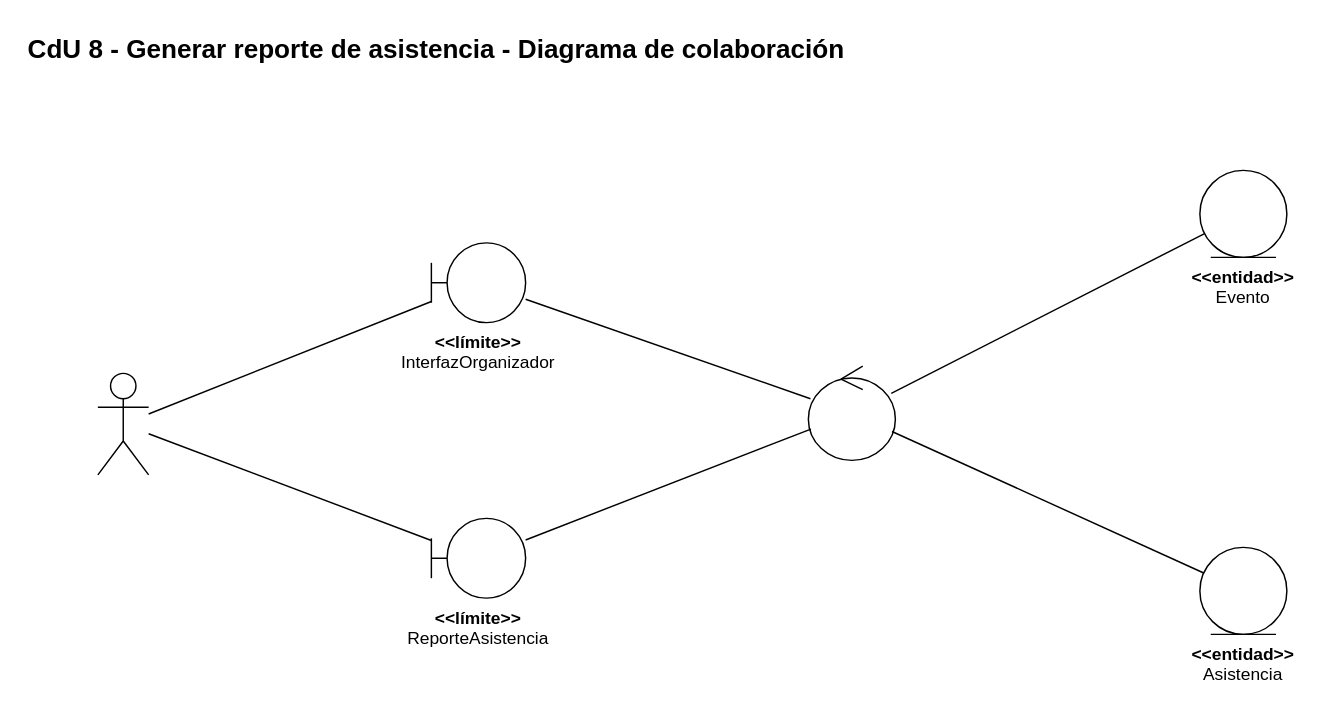
This 1320x711 diagram has some shape labels left out. Here are the shapes that lost their labels. From the top down, the centre of each, then its label:
At (x=122, y=423): "<<actor>> Organizador".
At (x=851, y=412): "<<control>> GestiónAsistencia".
